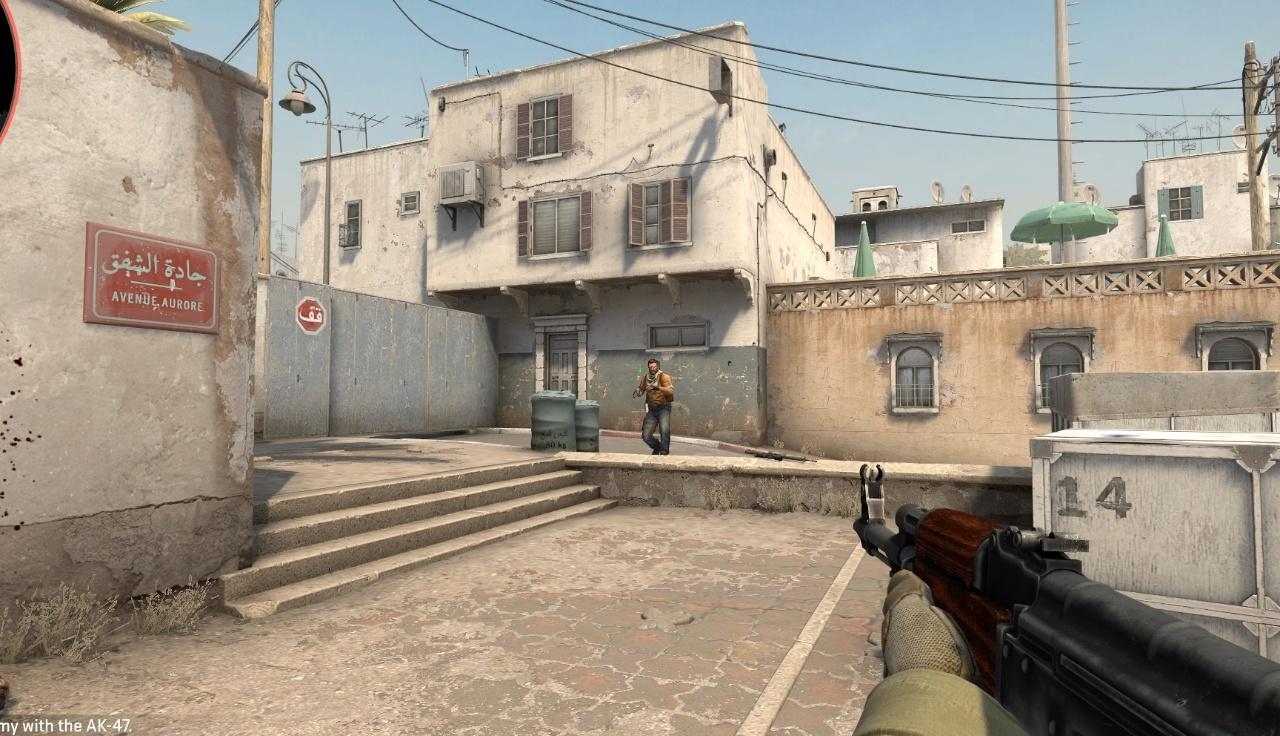rifle: (853, 463, 1280, 736)
tt: (635, 359, 674, 457)
tthead: (648, 359, 658, 374)
